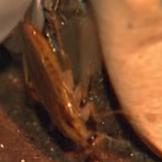cockroach: (20, 20, 100, 148)
